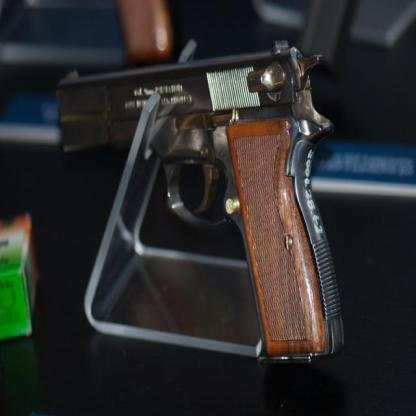weapon: (56, 37, 348, 367)
